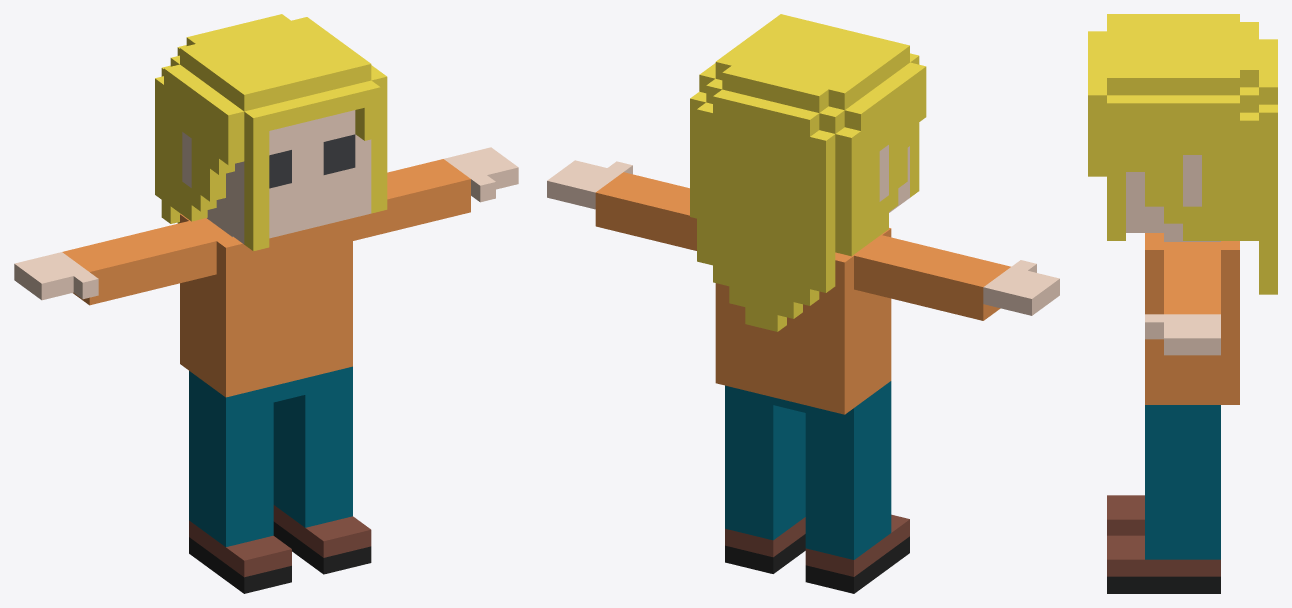
Rendered from student-5.obj.
3 views of the same model, side by side, from view 1: azimuth 30°, elevation 25°; view 2: azimuth 150°, elevation 25°; view 3: azimuth 270°, elevation 25° (orthographic). The views are drawn at different scales.
Bounding box in the file's own units: 3 × 3 × 1.
Materials: 1 (1 with a texture image).
